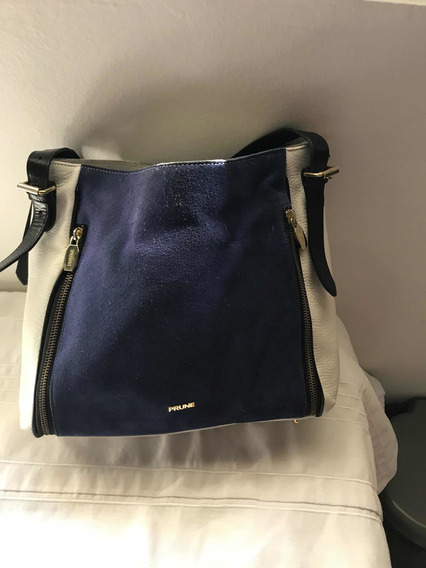cartera: (20, 123, 343, 440)
